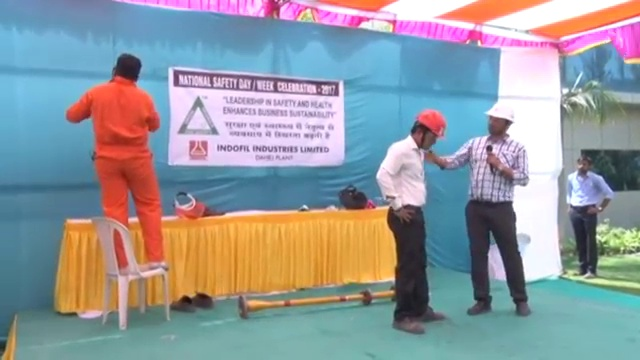helmet: (416, 107, 447, 138), (484, 101, 518, 123)
helmet_off: (111, 51, 141, 83), (573, 154, 591, 176)
helmet_on: (410, 107, 445, 153), (482, 102, 518, 142)
person: (64, 51, 171, 273), (427, 102, 535, 317), (374, 107, 454, 337), (564, 154, 614, 281)
